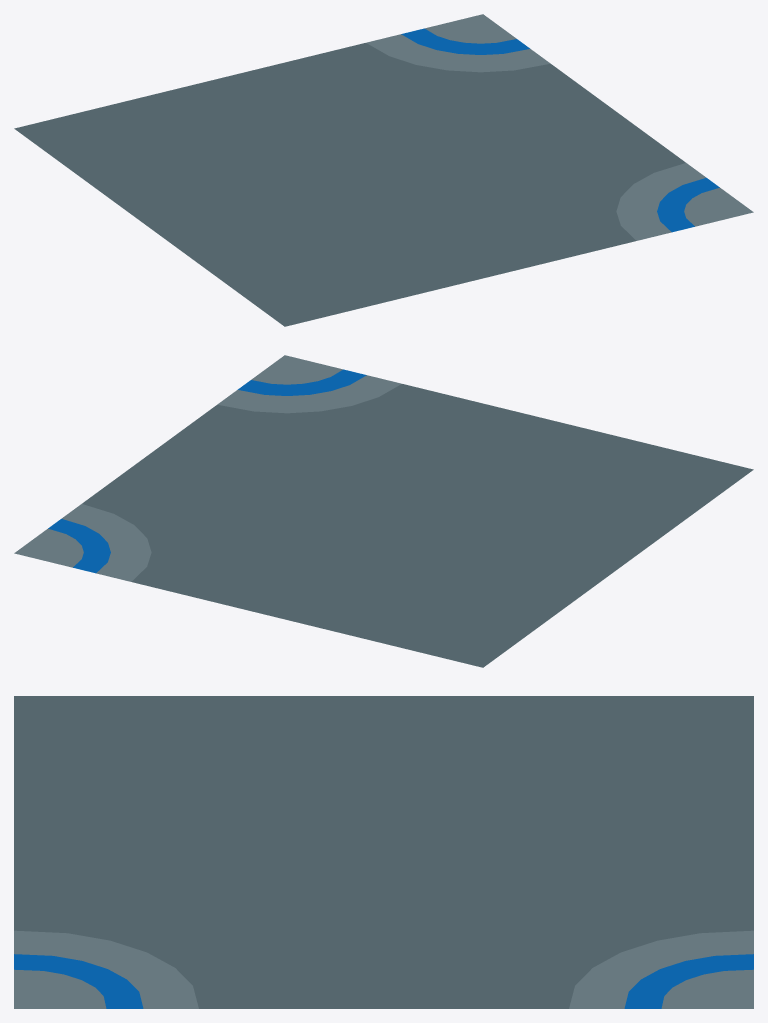
Rendered from Ceiling_type_C_038.fbx.
The picture shows the model from 3 angles, top to bottom: view 1: azimuth 30°, elevation 25°; view 2: azimuth 150°, elevation 25°; view 3: azimuth 270°, elevation 25°; orthographic projection. The views are drawn at different scales.
Parts seen in each view (by area): view 1: Ceiling_type_C_038; view 2: Ceiling_type_C_038; view 3: Ceiling_type_C_038.
Boxes of the visible parts, x1=… form: Ceiling_type_C_038: x1=14, y1=14, x2=753, y2=326; Ceiling_type_C_038: x1=14, y1=355, x2=753, y2=667; Ceiling_type_C_038: x1=14, y1=696, x2=753, y2=1008.
Size of the model in its own units: 400 by 400 by 1.2.
